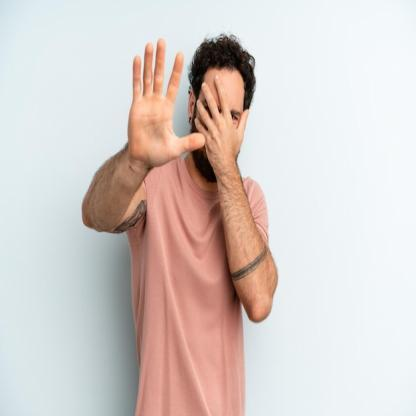stop: (124, 35, 209, 166)
